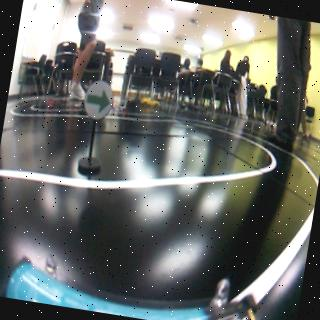right: (81, 79, 117, 122)
